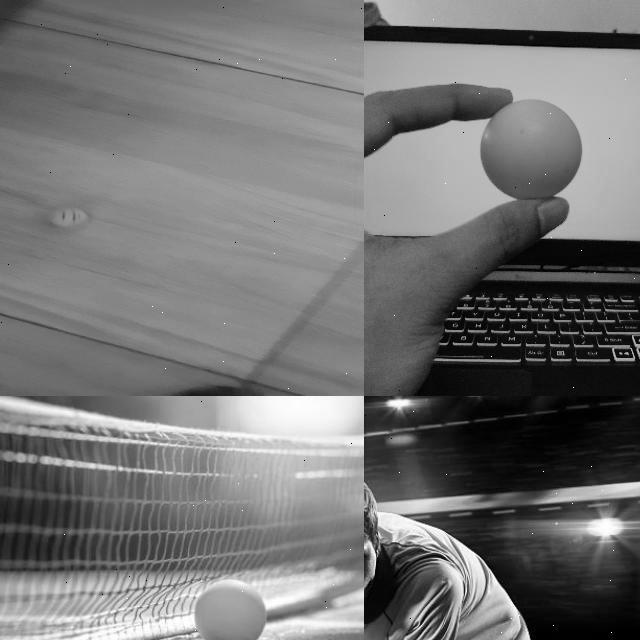ping-pong-ball: (480, 98, 580, 202), (193, 577, 266, 639), (46, 207, 90, 226)
